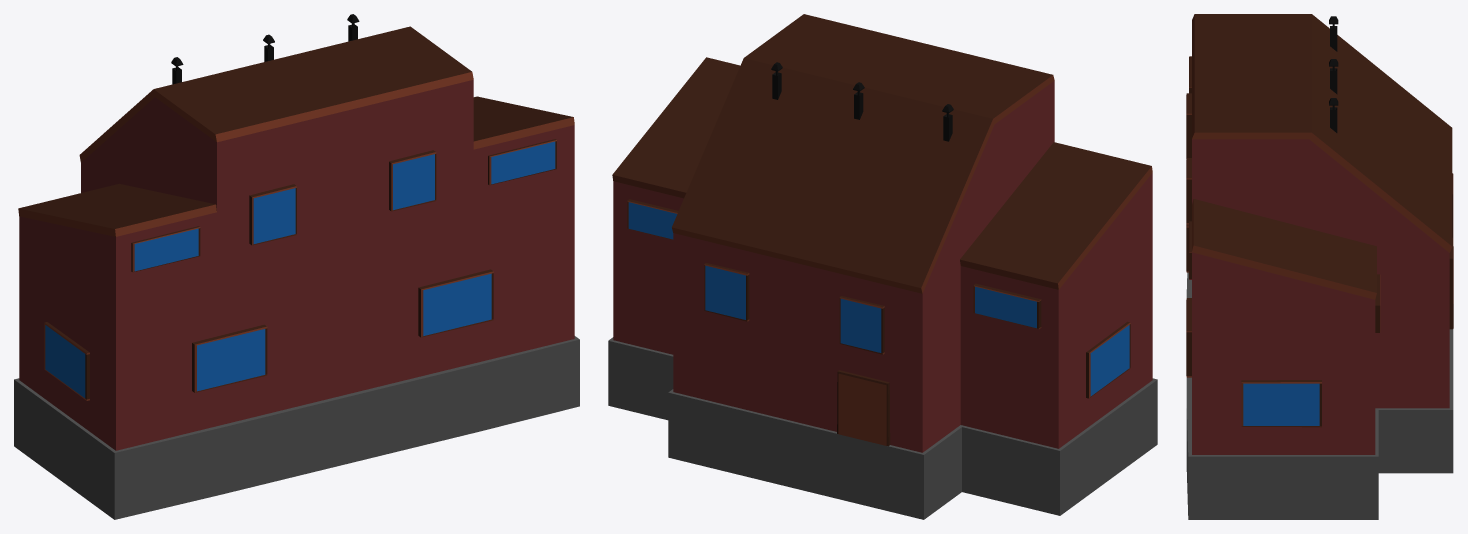
The model's file is House1_red.FBX.
The picture shows the model from 3 angles, left to right: view 1: azimuth 30°, elevation 25°; view 2: azimuth 150°, elevation 25°; view 3: azimuth 270°, elevation 25°; orthographic projection. The views are drawn at different scales.
Parts seen in each view (by area): view 1: House1_redw; view 2: House1_redw; view 3: House1_redw.
Part boxes in pixels (left/top/right/bottom): House1_redw: left=14, top=14, right=579, bottom=519; House1_redw: left=608, top=14, right=1157, bottom=519; House1_redw: left=1186, top=14, right=1453, bottom=519.
Bounding box in the file's own units: 570 × 298 × 433.
